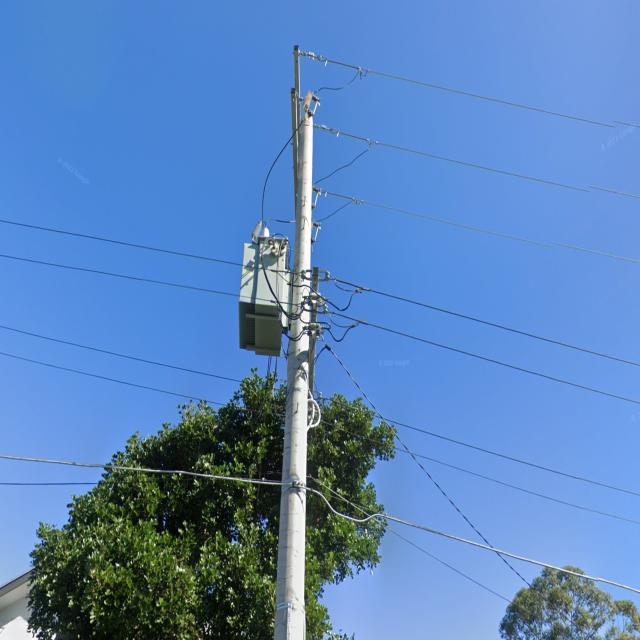HV-transmission: (289, 44, 376, 243)
LV link: (309, 284, 372, 312), (308, 320, 368, 343)
concrete-pole: (272, 113, 315, 640)
crossarm: (308, 265, 321, 395), (291, 90, 298, 212), (294, 46, 301, 139)
transformer: (237, 219, 290, 354)
